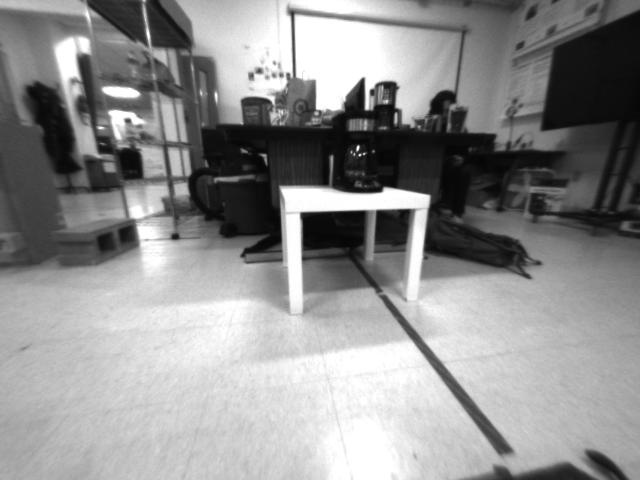coffee_pot: (325, 108, 389, 196)
